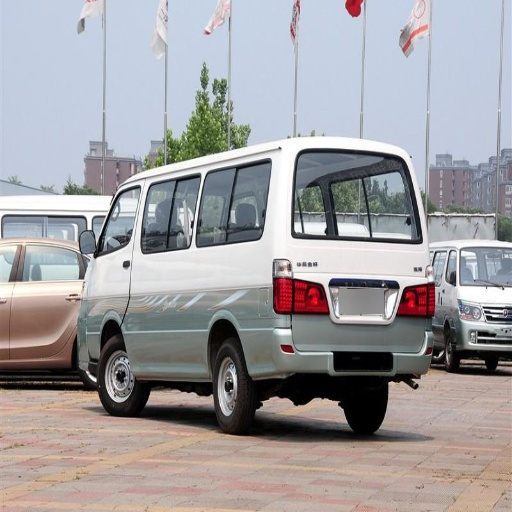back_bumper: (254, 293, 456, 375)
back_glass: (347, 181, 419, 241)
back_left_door: (11, 281, 81, 359)
back_right_door: (297, 157, 387, 223), (200, 166, 237, 219)
trunk: (81, 244, 448, 379)
